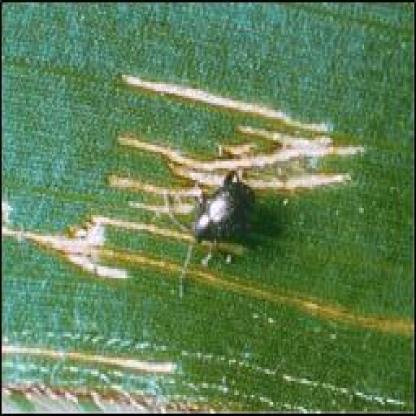beetle: (163, 177, 267, 259)
